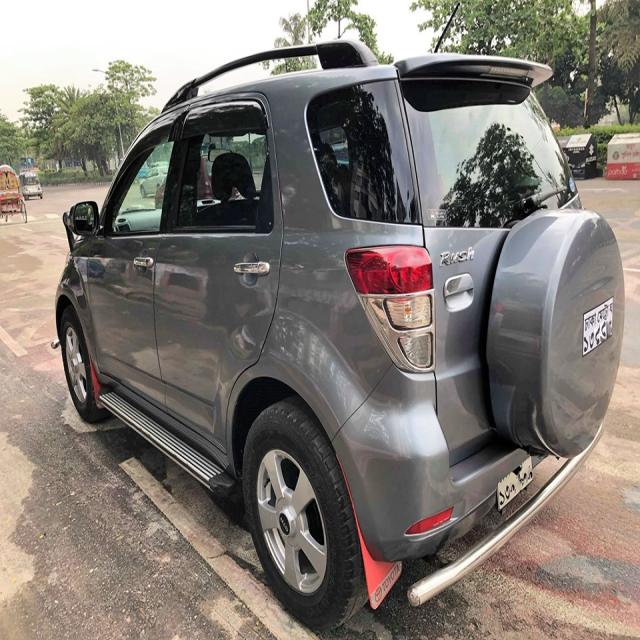car: (50, 24, 615, 612)
